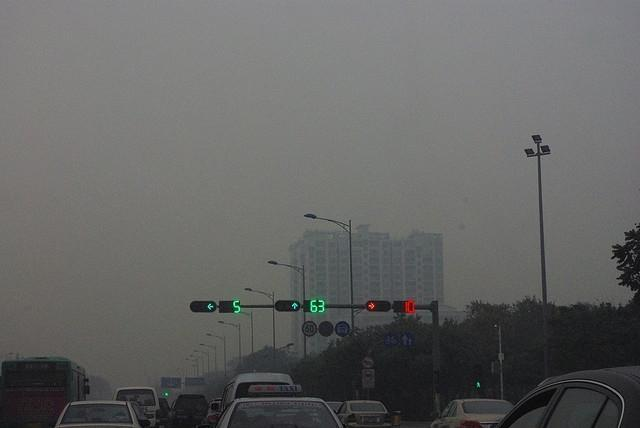bus: (1, 357, 90, 428)
car: (502, 365, 640, 424), (216, 397, 339, 423), (430, 399, 513, 428), (114, 386, 160, 428), (58, 402, 138, 423), (335, 401, 390, 428), (172, 393, 208, 423), (326, 400, 343, 413)
